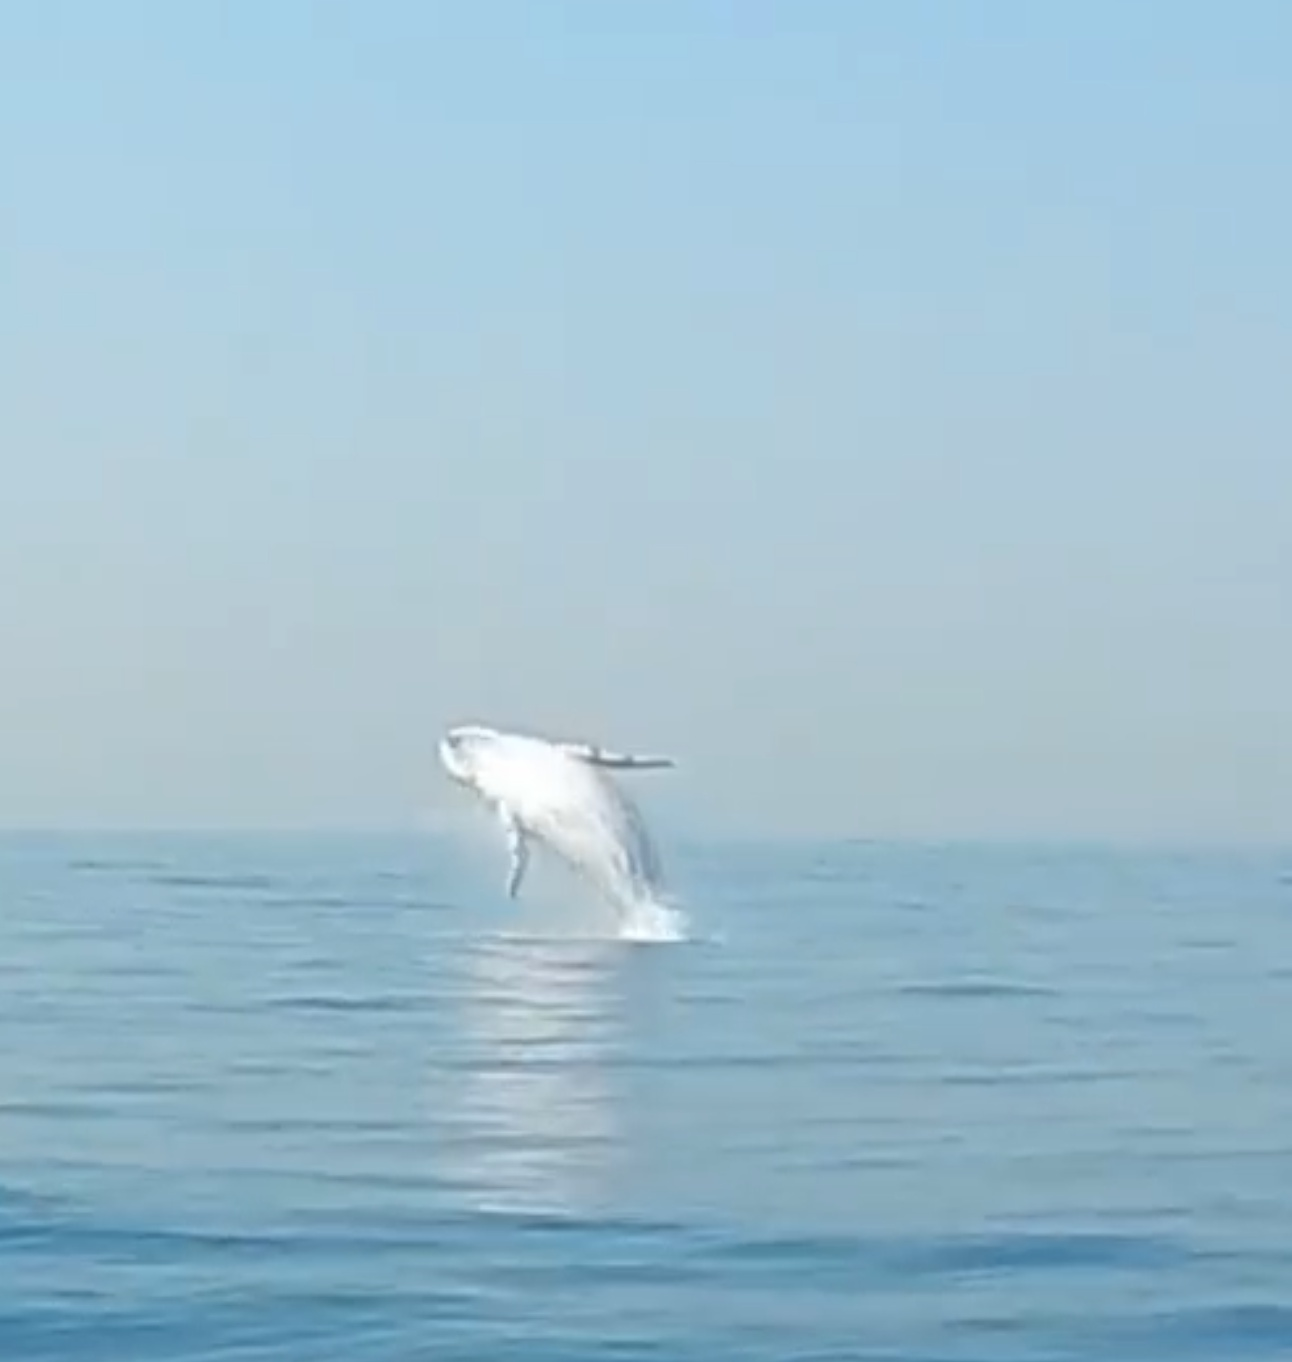humpback: (438, 717, 676, 940)
